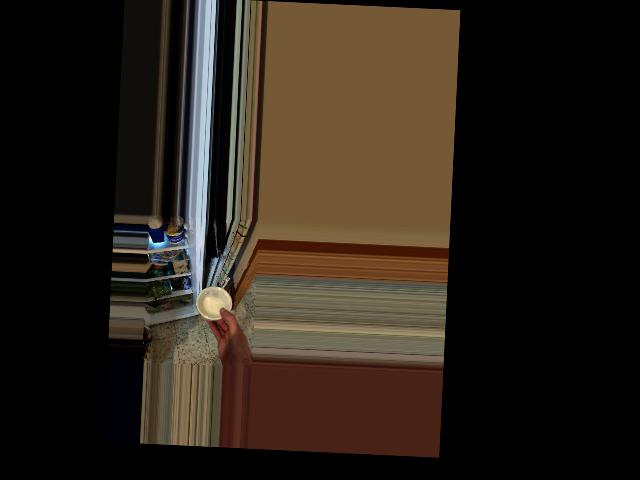cotage: (195, 284, 230, 322)
